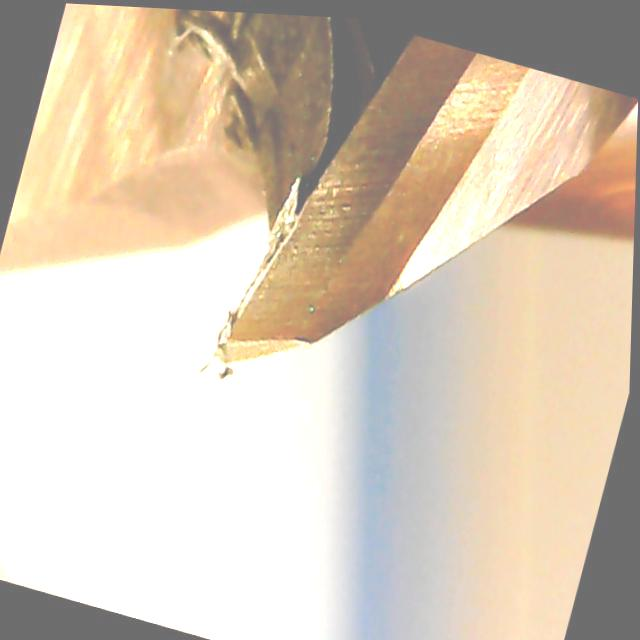Tool-wear-class-2: (191, 68, 435, 425)
